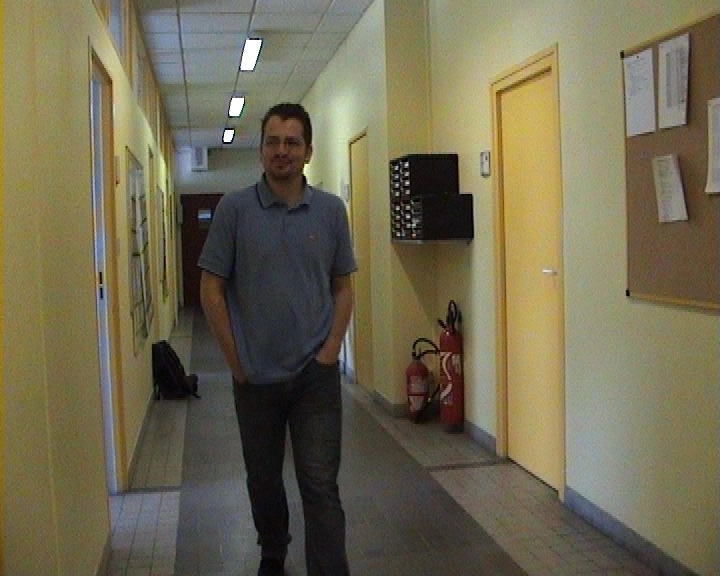leave bag unattended: (132, 321, 209, 447)
